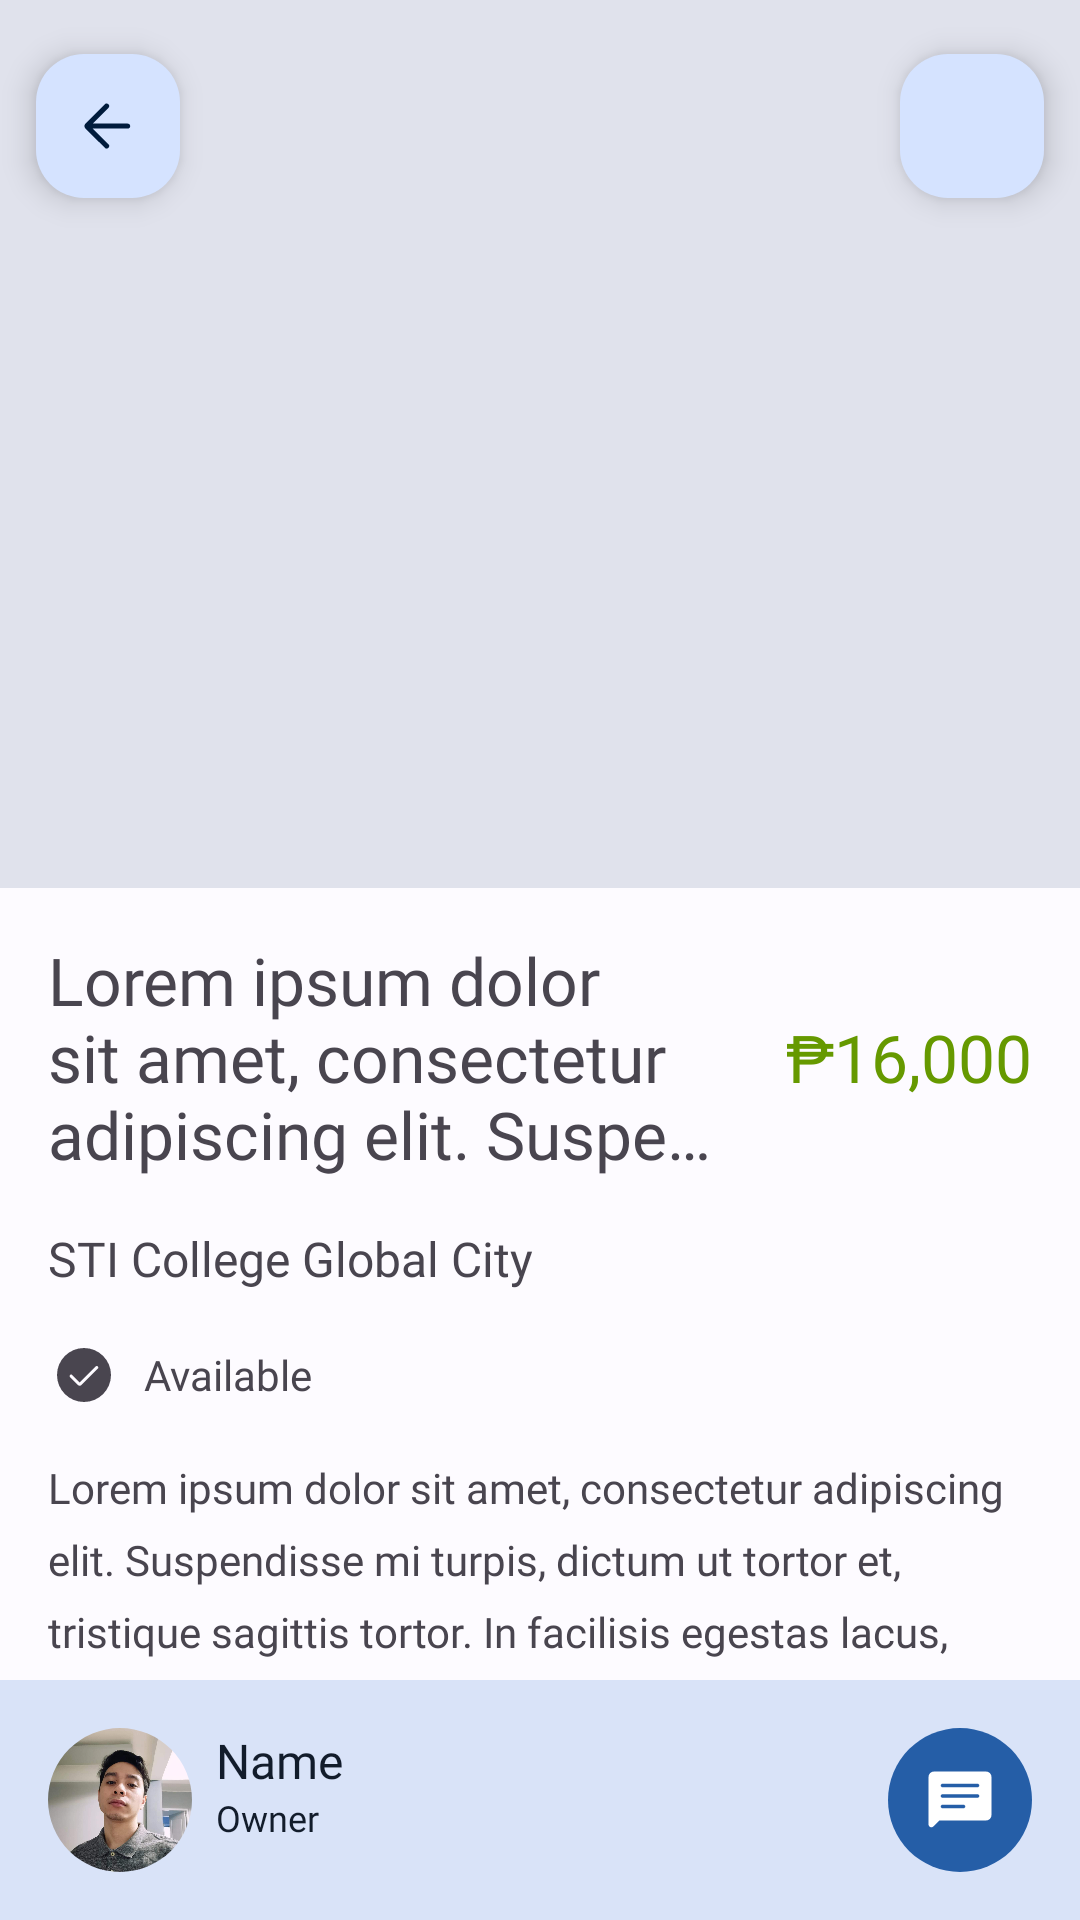

Icons on this 1080*1920 Android screen, each with its box as (x1, y1, x2, y2):
arrow back: (21, 47, 185, 209)
chat: (888, 1728, 1032, 1872)
check circle: (57, 1348, 111, 1402)
